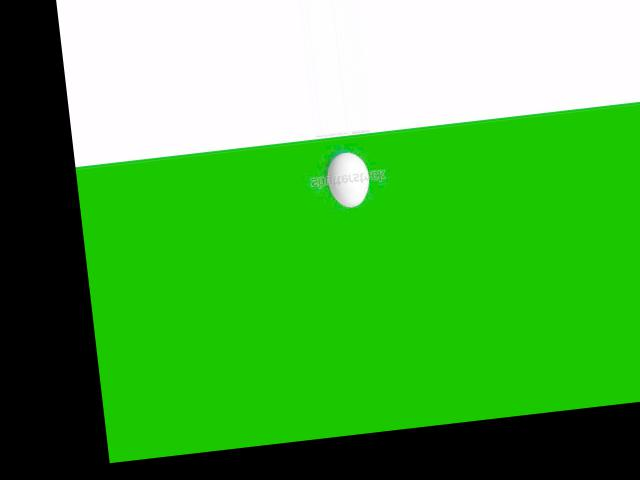egg: (325, 150, 372, 209)
